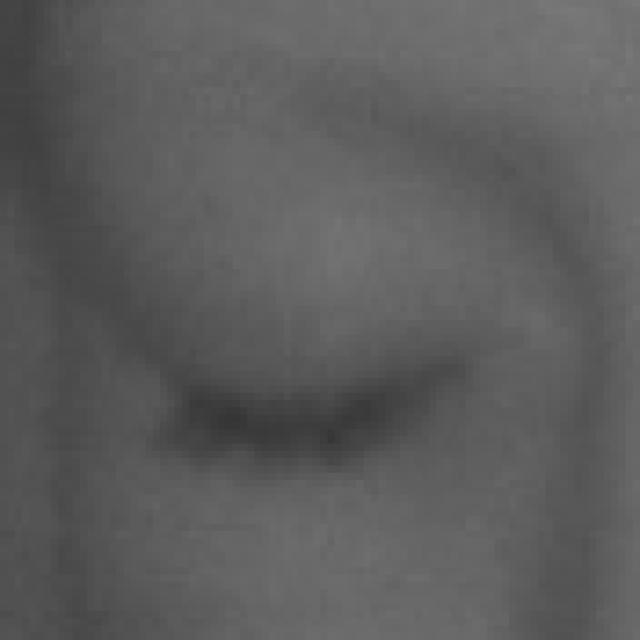Eyeclosed: (160, 222, 486, 617)
